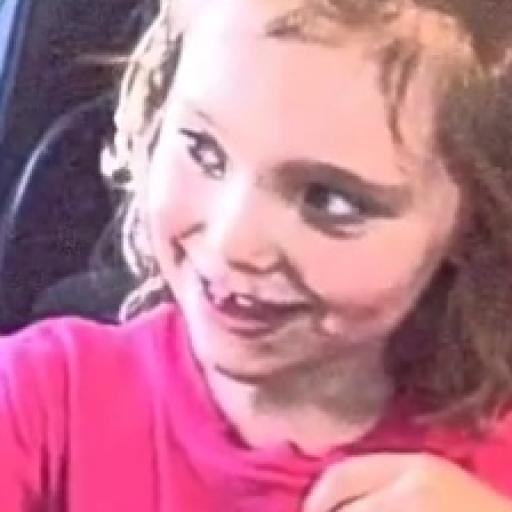Autism: (107, 0, 512, 398)
